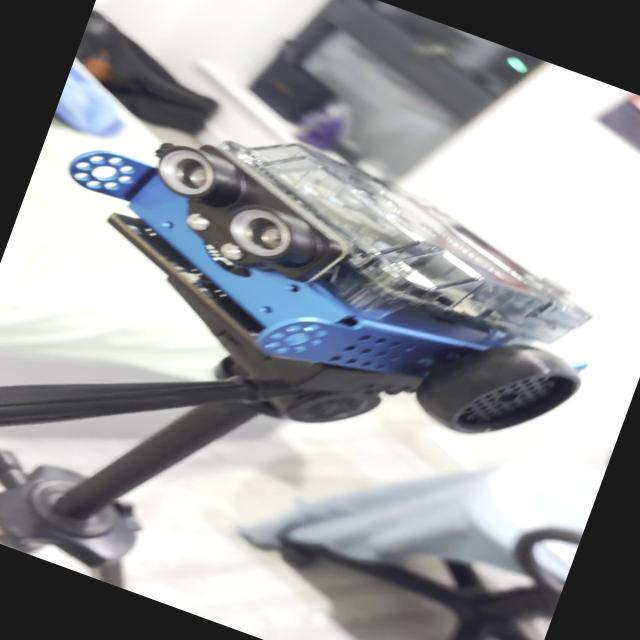mbot-detection: (12, 61, 634, 478)
